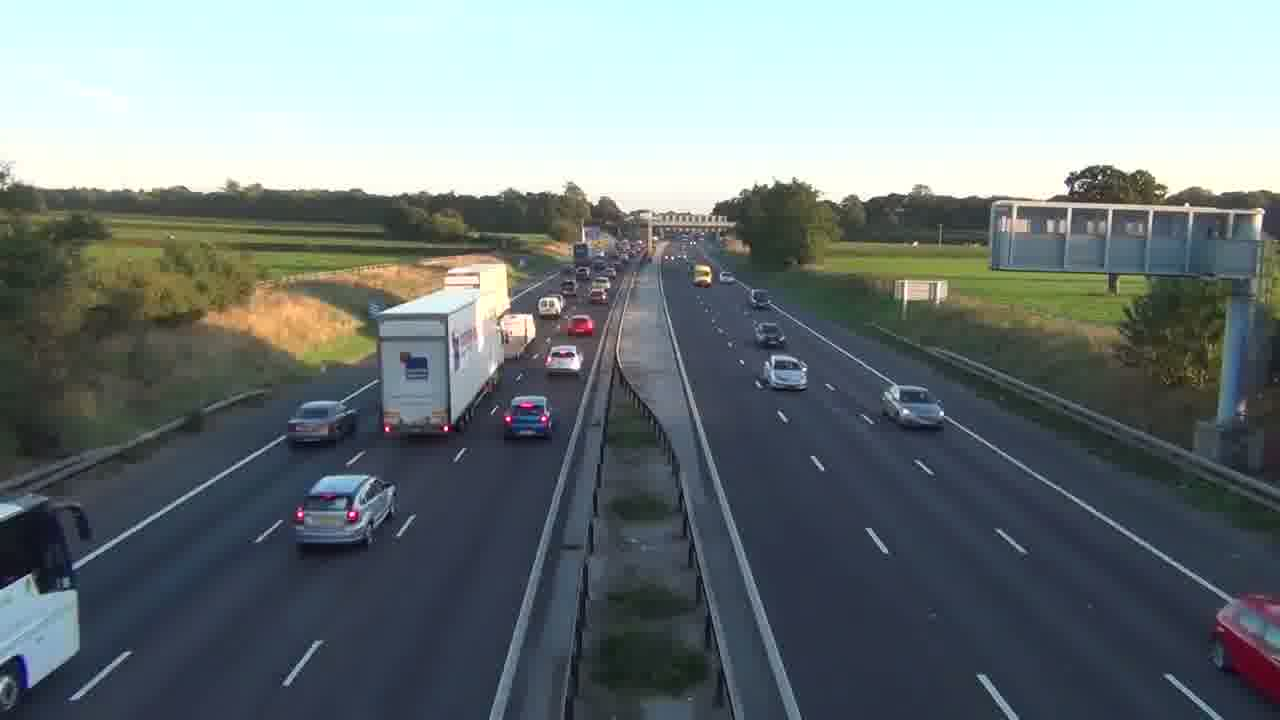bus: (0, 494, 95, 711)
car: (292, 473, 399, 550), (1207, 591, 1279, 704), (880, 384, 945, 430), (503, 395, 554, 439), (757, 353, 808, 391), (545, 345, 582, 375), (754, 321, 786, 347), (566, 314, 594, 337), (537, 295, 563, 318)
truck: (0, 494, 95, 711), (375, 287, 506, 438)
